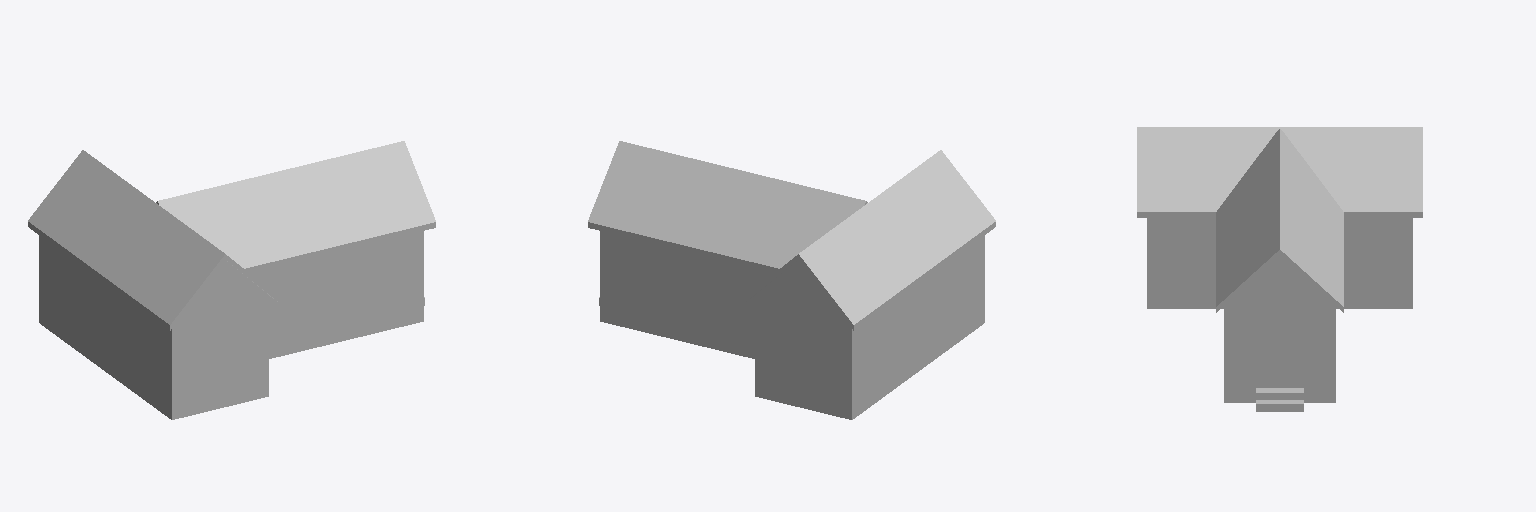
Rendered from school_low_poly.obj.
The picture shows the model from 3 angles: view 1: azimuth 30°, elevation 25°; view 2: azimuth 150°, elevation 25°; view 3: azimuth 270°, elevation 25°; orthographic projection.
Visible parts, largest first — view 1: House.001_Cube.003, Roof_Cube.001, Roof.001_Cube.004, House_Cube; view 2: House.001_Cube.003, Roof_Cube.001, Roof.001_Cube.004, House_Cube; view 3: Roof.001_Cube.004, Roof_Cube.001, House_Cube, House.001_Cube.003, Step_Cube.013.
Part boxes in pixels (x1,y1,x2,y2): House.001_Cube.003: (39,235,268,419); Roof_Cube.001: (156,141,435,272); Roof.001_Cube.004: (28,150,280,330); House_Cube: (250,231,423,358); House.001_Cube.003: (755,235,984,419); Roof_Cube.001: (588,141,867,272); Roof.001_Cube.004: (743,150,995,330); House_Cube: (600,231,773,358); Roof.001_Cube.004: (1137,127,1422,217); Roof_Cube.001: (1216,129,1343,312); House_Cube: (1224,256,1335,402); House.001_Cube.003: (1147,218,1412,308); Step_Cube.013: (1256,388,1303,411).
Bounding box in the file's own units: 0.8064 × 0.3879 × 0.6337.